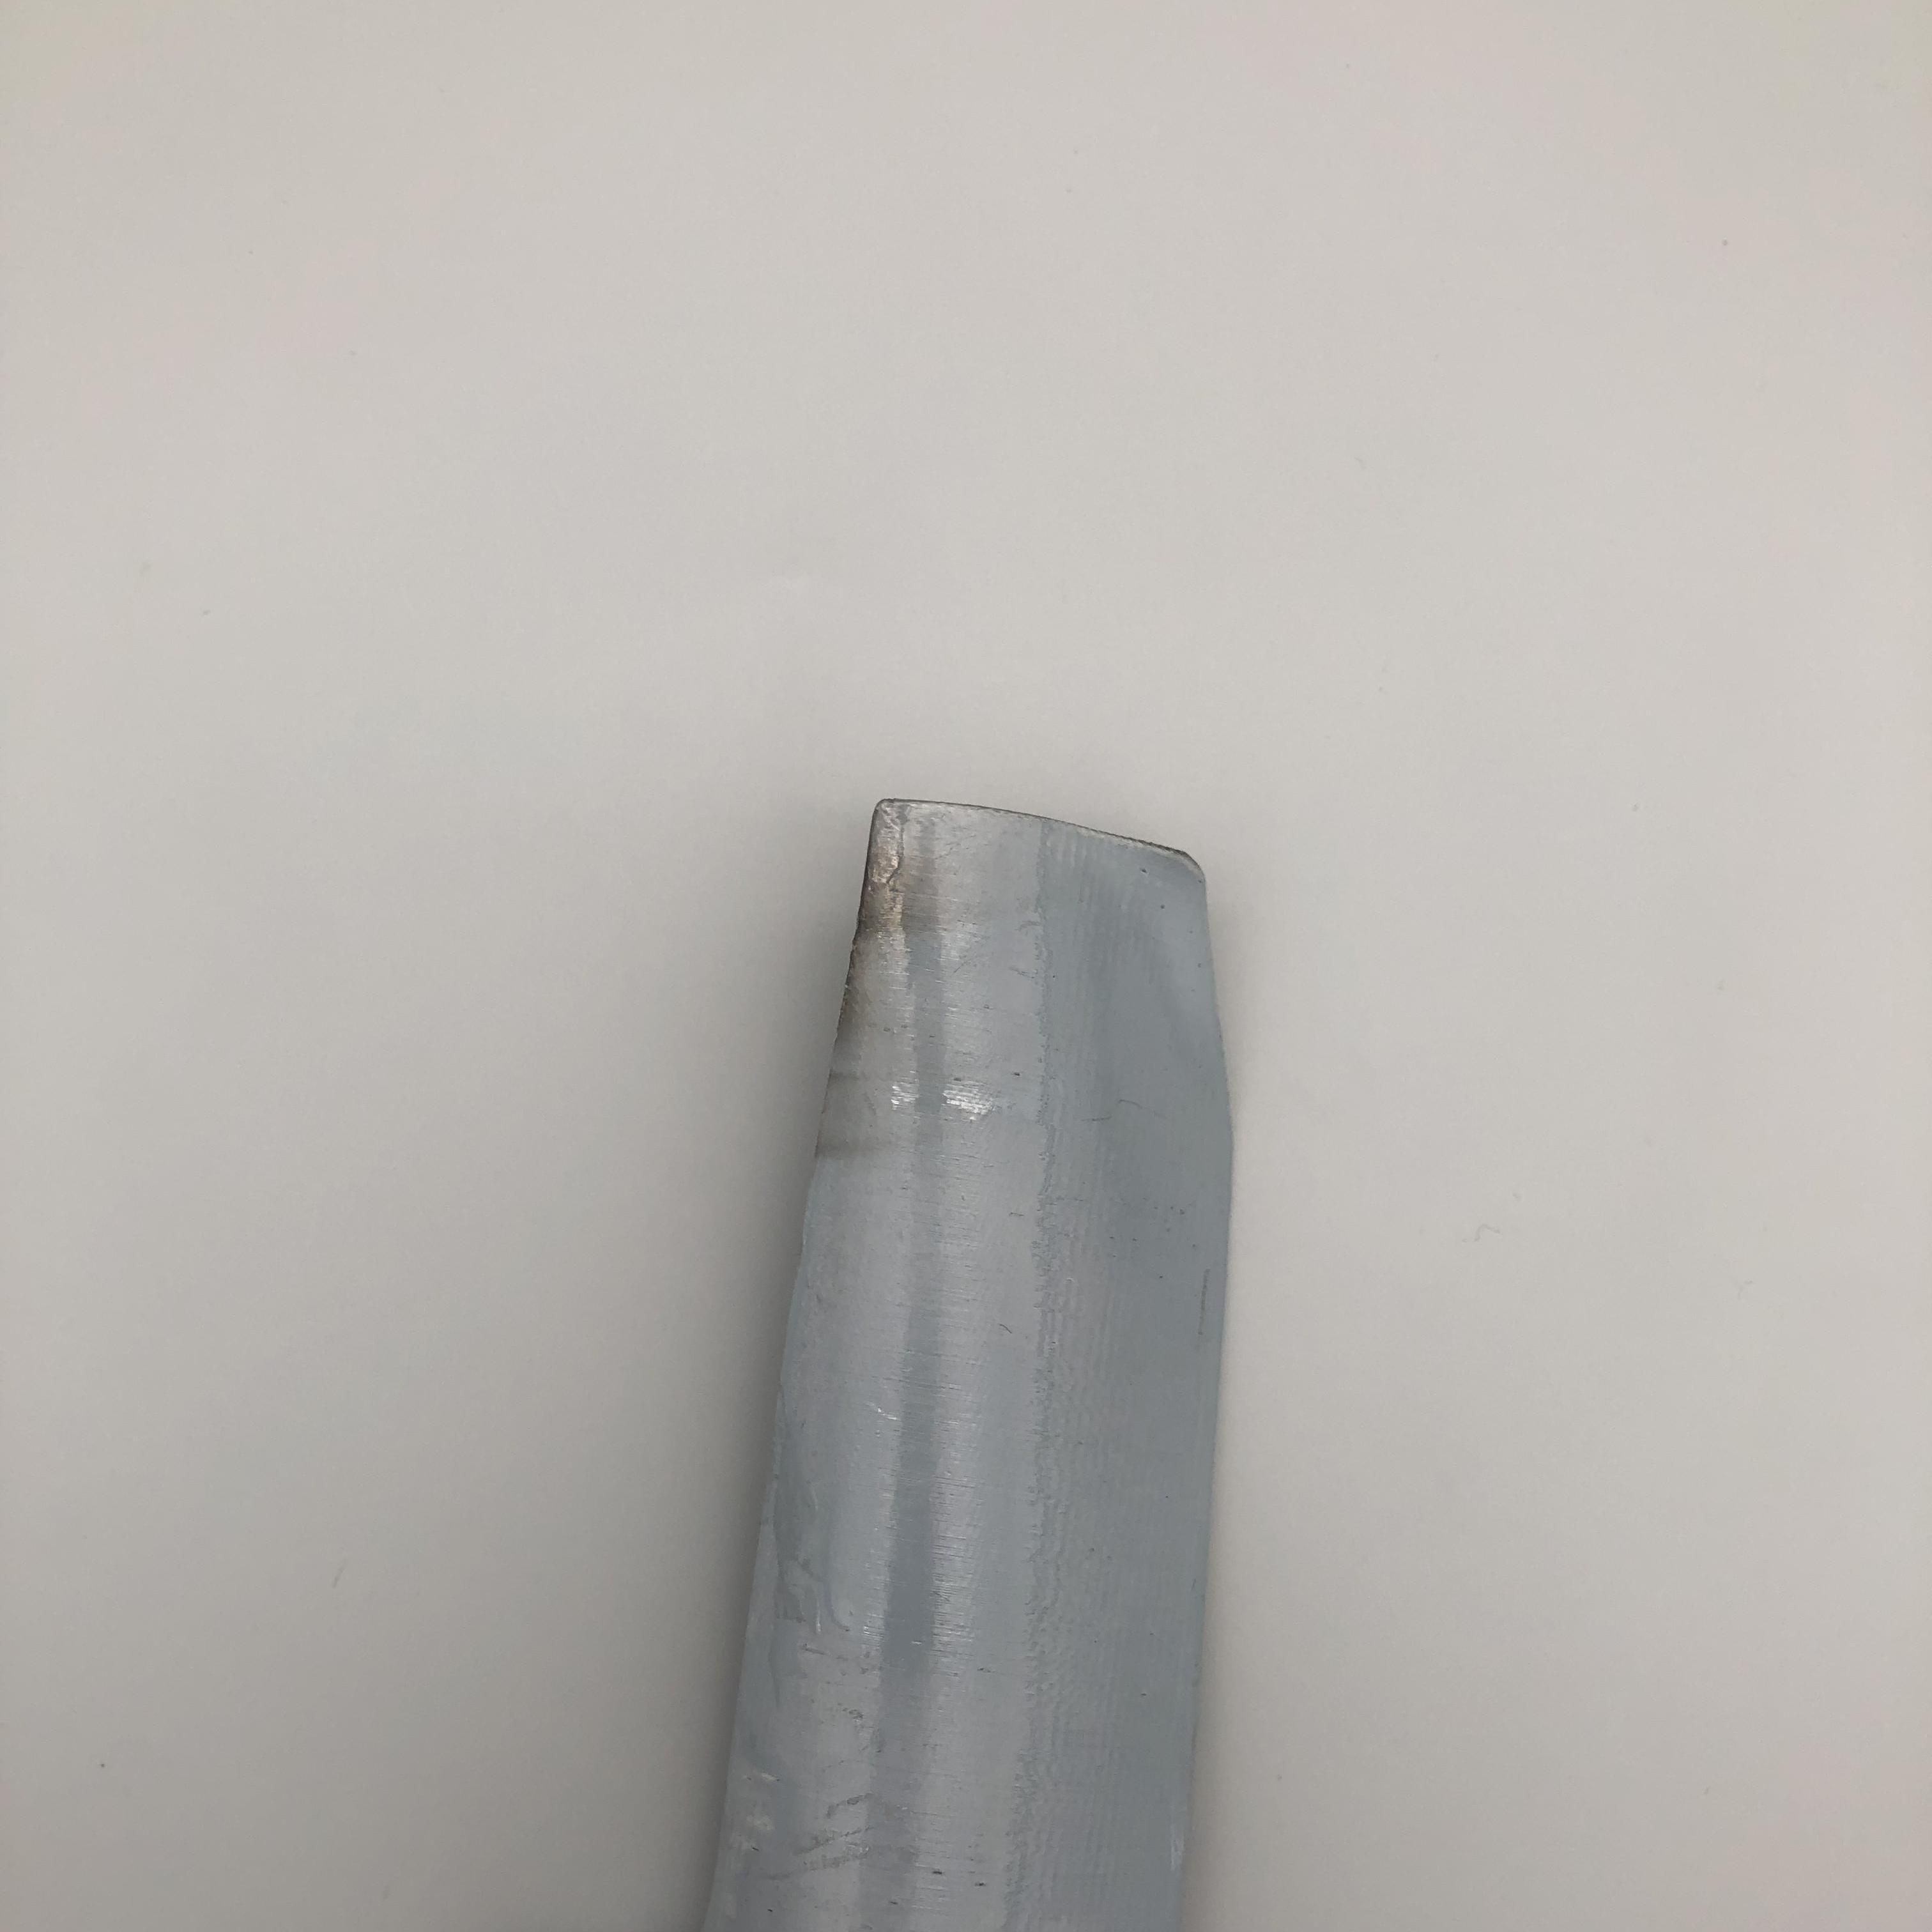ablation: (826, 812, 927, 1090)
